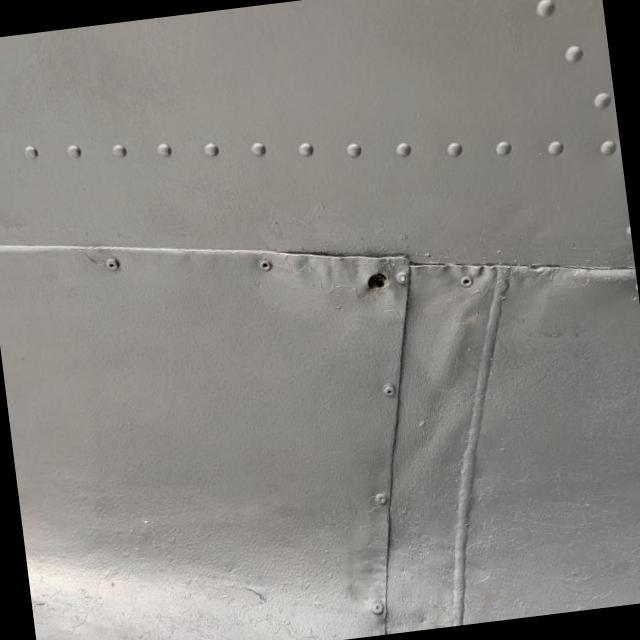Missing Fastener: (365, 271, 391, 291)
dent: (272, 242, 393, 282)
